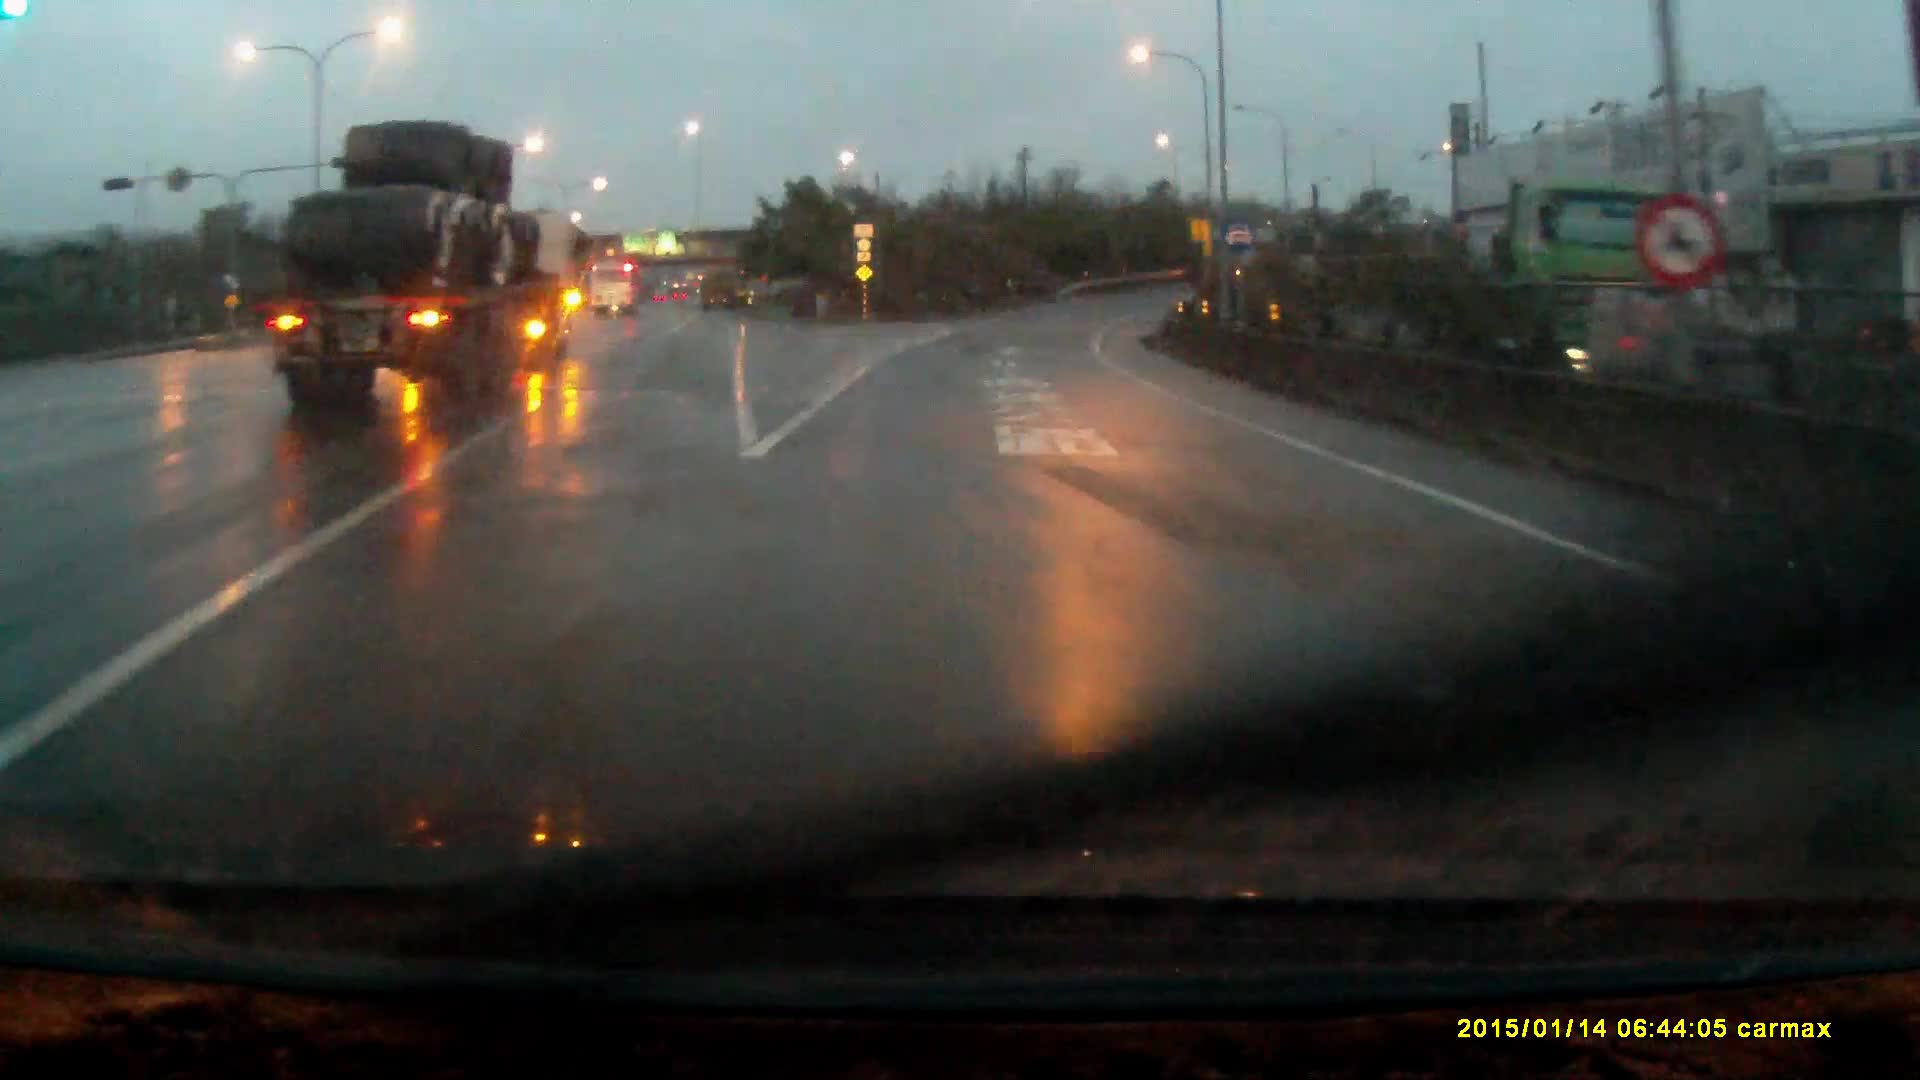vehicle: (266, 123, 583, 415), (591, 265, 646, 319)
